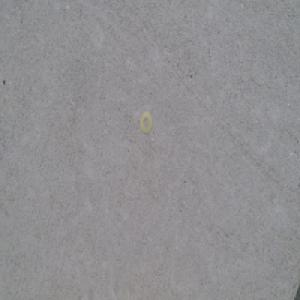Washer: (140, 110, 153, 135)
